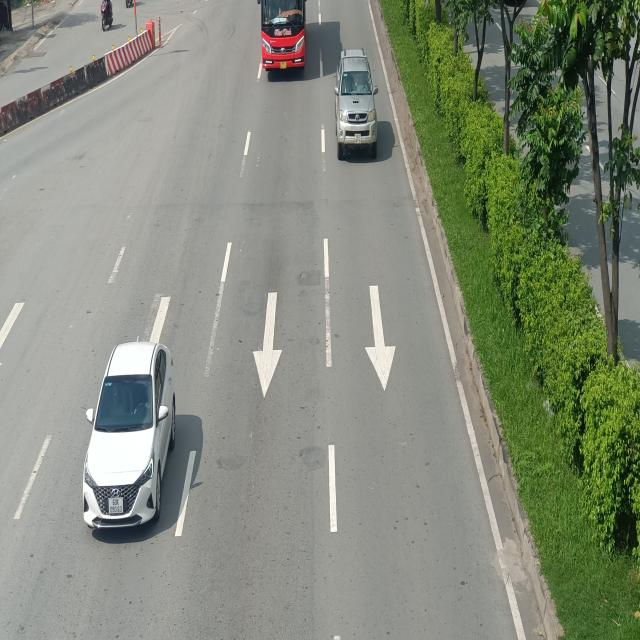car: (85, 339, 180, 533), (333, 45, 378, 158)
coach: (258, 0, 308, 78)
